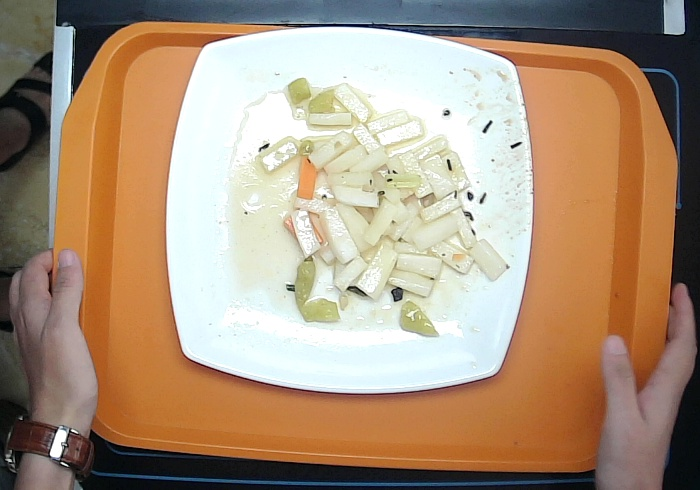ZNLD-Bai_Fang_Pan: (161, 19, 544, 394)
